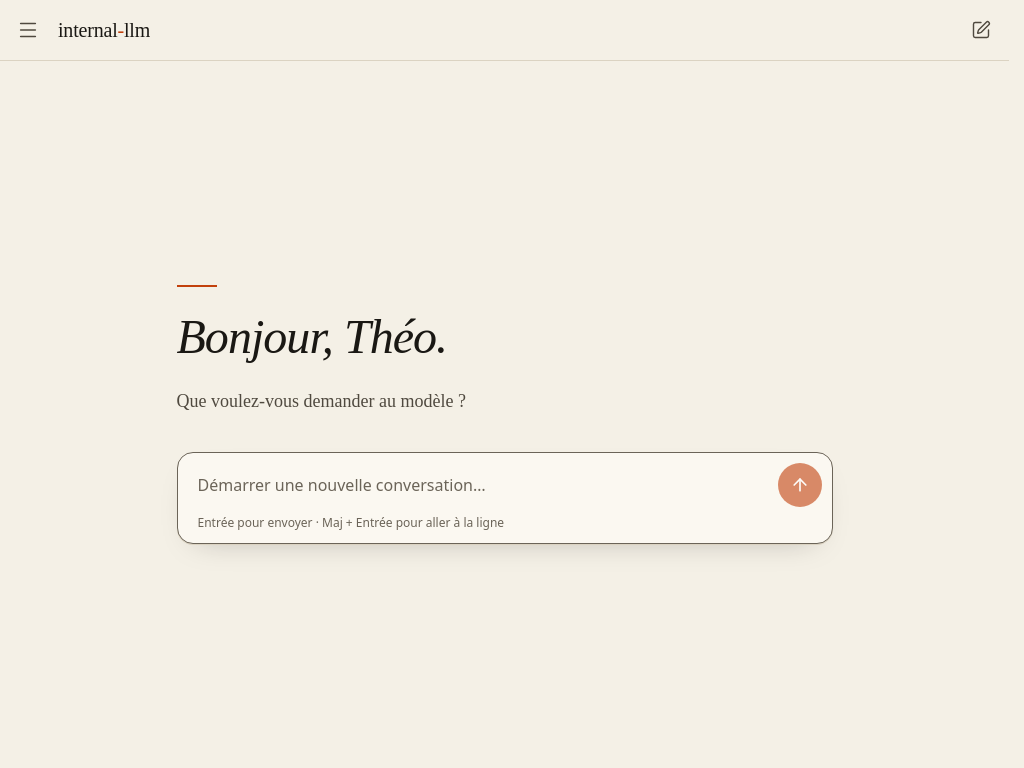
Test: app shell on mobile › opens the navigation as a drawer and closes it with Escape
Expected: the heading "Bonjour, Théo." is shown, [176,310,447,363]
Click the button named "Ouvrir la navigation" at (28,30), box [6,8,50,52]
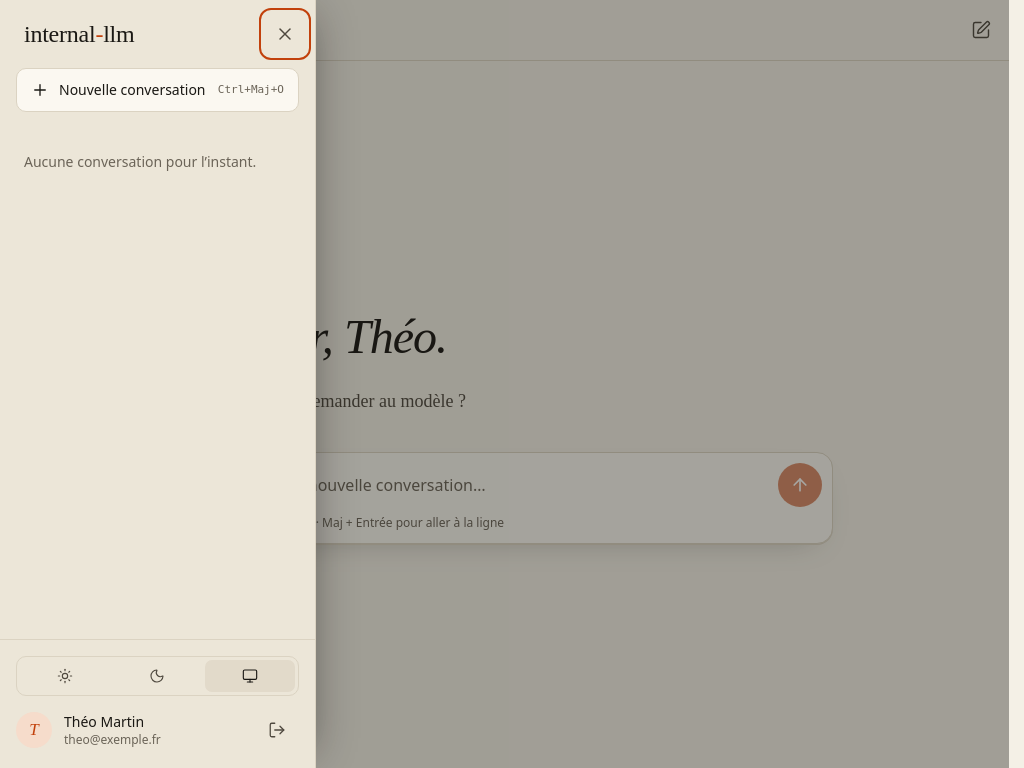
Expected: the text "Théo Martin" is shown, [64,712,144,731]
Expected: the button named "Se déconnecter" is shown, [255,708,299,752]
Press Escape
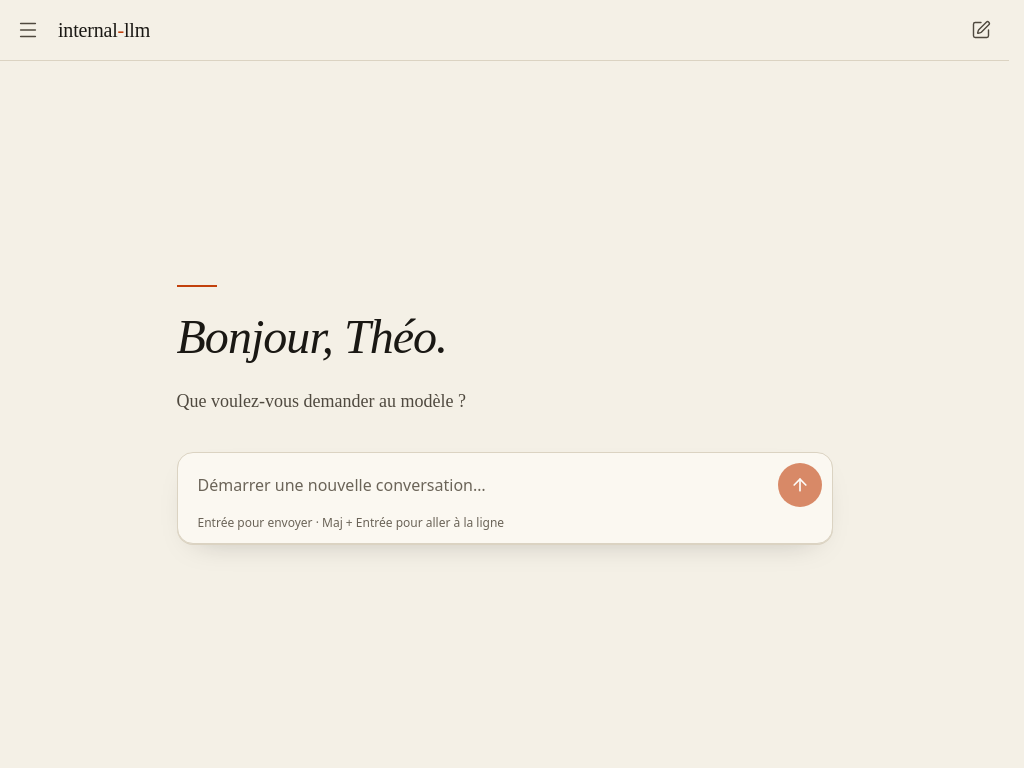
Expected: the dialog is gone
